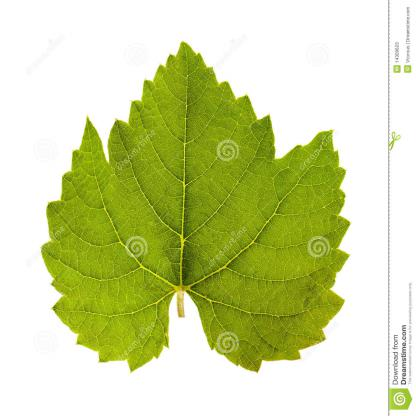grape leaf: (41, 37, 357, 379)
